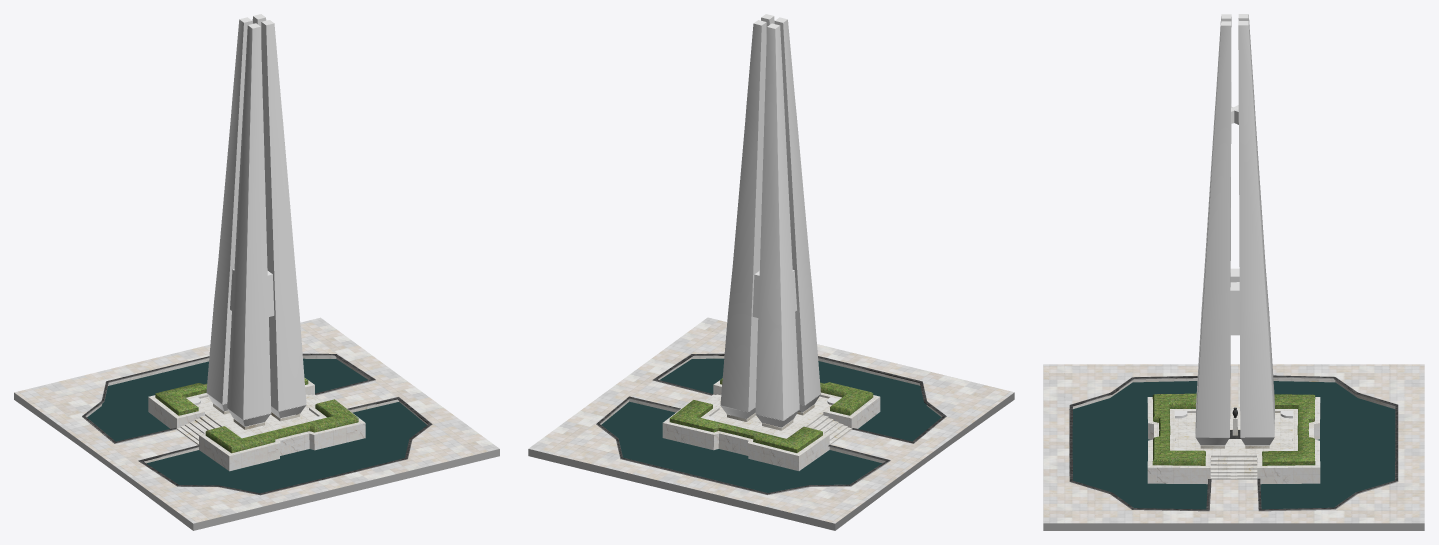
File: sg_war_memorial.gltf
3 views of the same model, side by side, from view 1: azimuth 30°, elevation 25°; view 2: azimuth 150°, elevation 25°; view 3: azimuth 270°, elevation 25° (orthographic). The views are drawn at different scales.
Visible parts, largest first — view 1: Cube (×2); view 2: Cube (×2); view 3: Cube (×2).
Part boxes in pixels (x1=…): Cube (×2): x1=14, y1=14, x2=499, y2=530; Cube (×2): x1=528, y1=14, x2=1014, y2=530; Cube (×2): x1=1043, y1=14, x2=1424, y2=530.
Size of the model in its own units: 0.2878 by 0.3643 by 0.2914.
Materials: 2 (2 with a texture image).
